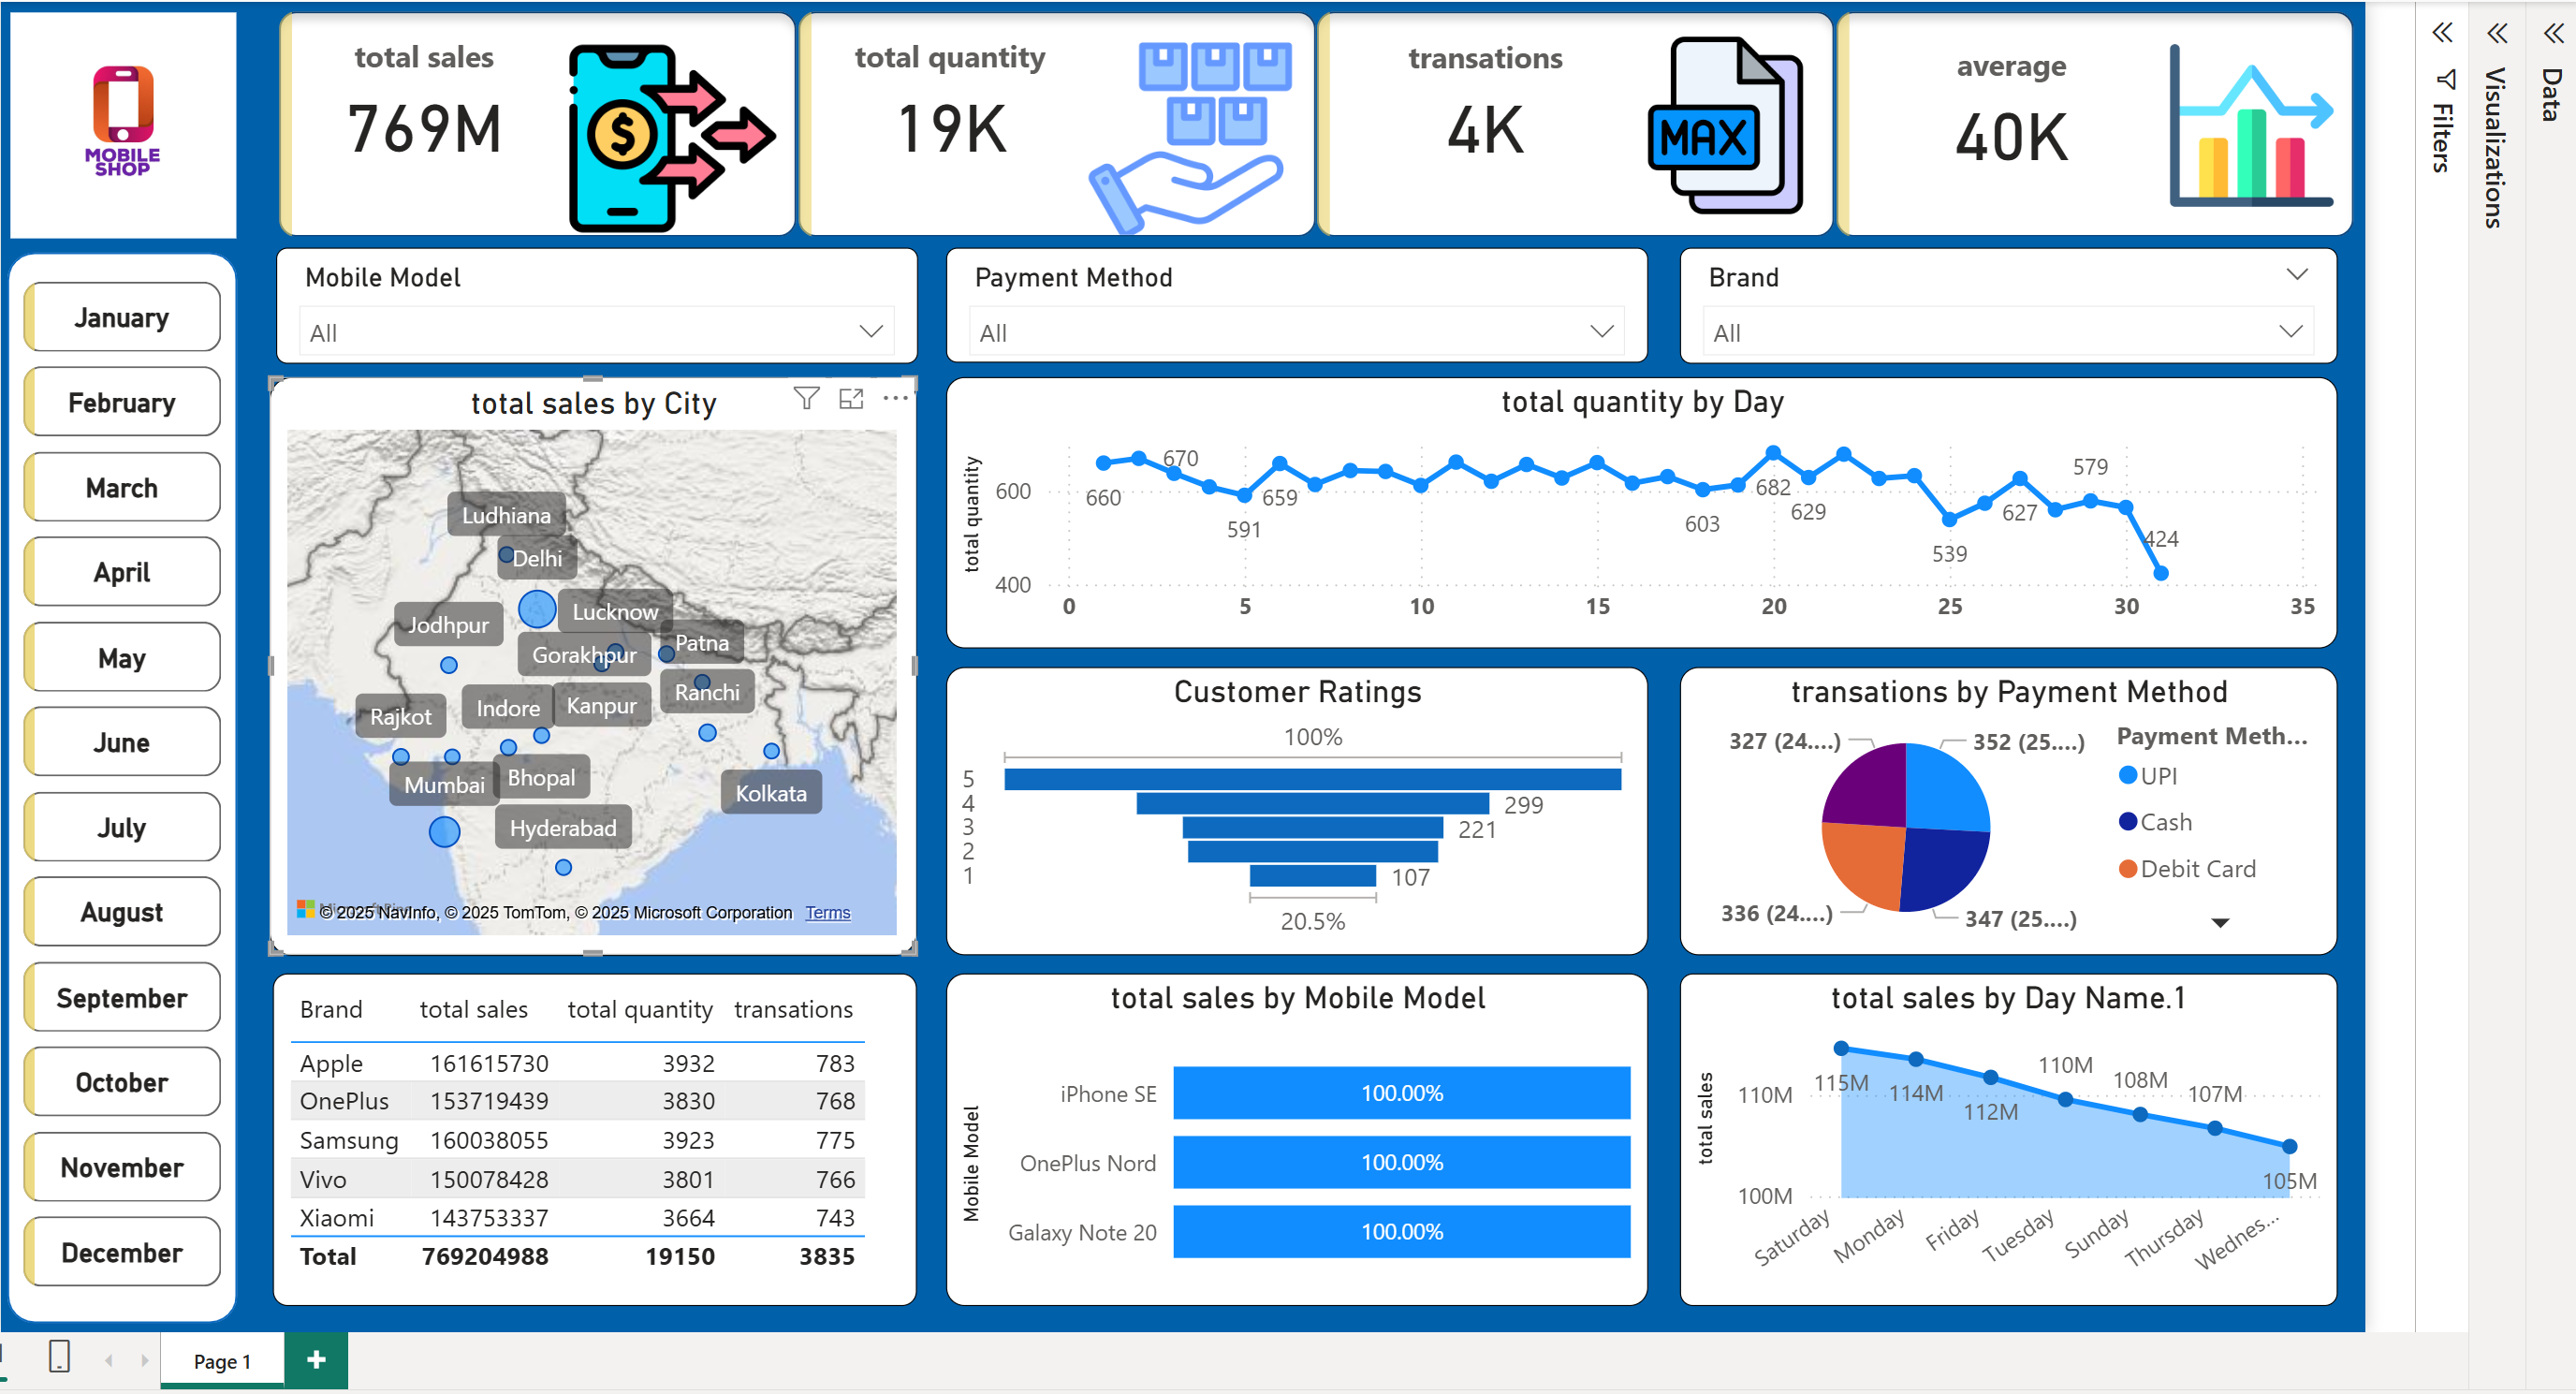

The dashboard page shown, as its layout file describes it:
{"tool":"powerbi","page":{"name":"Page 1","canvas":[1280,720],"ordinal":0},"visuals":[{"type":"shape","box":[0,132.5,132.5,587.5],"z":1000},{"type":"advancedSlicerVisual","fields":{"Values":["mobile sales data.Date.Variation.Date Hierarchy.Month"]},"box":[7.5,146.2,117.5,560],"z":2000},{"type":"cardVisual","fields":{"Data":["mobile sales data.total sales","mobile sales data.total quantity","mobile sales data.transations","mobile sales data.average"]},"box":[145.7,0,1134.3,132.9],"z":3000},{"type":"map","fields":{"Category":["mobile sales data.City"],"Size":["mobile sales data.total sales"]},"box":[145.7,202.9,350,312.9],"z":4000},{"type":"lineChart","fields":{"Y":["mobile sales data.total quantity"],"Category":["mobile sales data.Date.Variation.Date Hierarchy.Day"]},"box":[511.1,203.3,753.3,146.7],"z":5000},{"type":"hundredPercentStackedBarChart","fields":{"Category":["mobile sales data.Mobile Model"],"Y":["mobile sales data.total sales"]},"box":[511.4,525.7,380,180],"z":6000},{"type":"pieChart","fields":{"Y":["mobile sales data.transations"],"Category":["mobile sales data.Payment Method"]},"box":[908.6,360,355.7,155.7],"z":7000},{"type":"funnel","title":" Customer Ratings","fields":{"Category":["mobile sales data.Customer Ratings"],"Y":["CountNonNull(mobile sales data.Customer Ratings)"]},"box":[511.4,360,380,155.7],"z":8000},{"type":"areaChart","fields":{"Category":["mobile sales data.Day Name.1"],"Y":["mobile sales data.total sales"]},"box":[908.6,525.7,355.7,180],"z":9000},{"type":"tableEx","fields":{"Values":["mobile sales data.Brand","mobile sales data.total sales","mobile sales data.total quantity","mobile sales data.transations"]},"box":[147.1,525.7,348.6,180],"z":10000},{"type":"slicer","fields":{"Values":["mobile sales data.Mobile Model"]},"box":[148.6,132.9,347.1,62.9],"z":11000},{"type":"slicer","fields":{"Values":["mobile sales data.Payment Method"]},"box":[511.1,133.3,380,62.2],"z":12000},{"type":"slicer","fields":{"Values":["mobile sales data.Brand"]},"box":[908.6,132.9,355.7,62.9],"z":13000},{"type":"image","box":[0,0,132.2,133.3],"z":13002}]}

Visuals, with their boxes in screenshot pixels (x1, y1, x2, y2):
shape: box(0, 238, 244, 1321)
advancedSlicerVisual - mobile sales data.Date.Variation.Date Hierarchy.Month: box(14, 263, 230, 1296)
cardVisual - mobile sales data.total sales x mobile sales data.total quantity: box(269, 0, 2360, 239)
map - mobile sales data.City x mobile sales data.total sales: box(269, 367, 914, 945)
lineChart - mobile sales data.total quantity x mobile sales data.Date.Variation.Date Hierarchy.Day: box(943, 368, 2331, 638)
hundredPercentStackedBarChart - mobile sales data.Mobile Model x mobile sales data.total sales: box(943, 962, 1643, 1295)
pieChart - mobile sales data.transations x mobile sales data.Payment Method: box(1675, 657, 2331, 944)
" Customer Ratings" funnel: box(943, 657, 1643, 944)
areaChart - mobile sales data.Day Name.1 x mobile sales data.total sales: box(1675, 962, 2331, 1295)
tableEx - mobile sales data.Brand x mobile sales data.total sales: box(271, 962, 914, 1295)
slicer - mobile sales data.Mobile Model: box(274, 239, 914, 354)
slicer - mobile sales data.Payment Method: box(943, 239, 1643, 354)
slicer - mobile sales data.Brand: box(1675, 239, 2331, 354)
image: box(0, 0, 243, 239)
